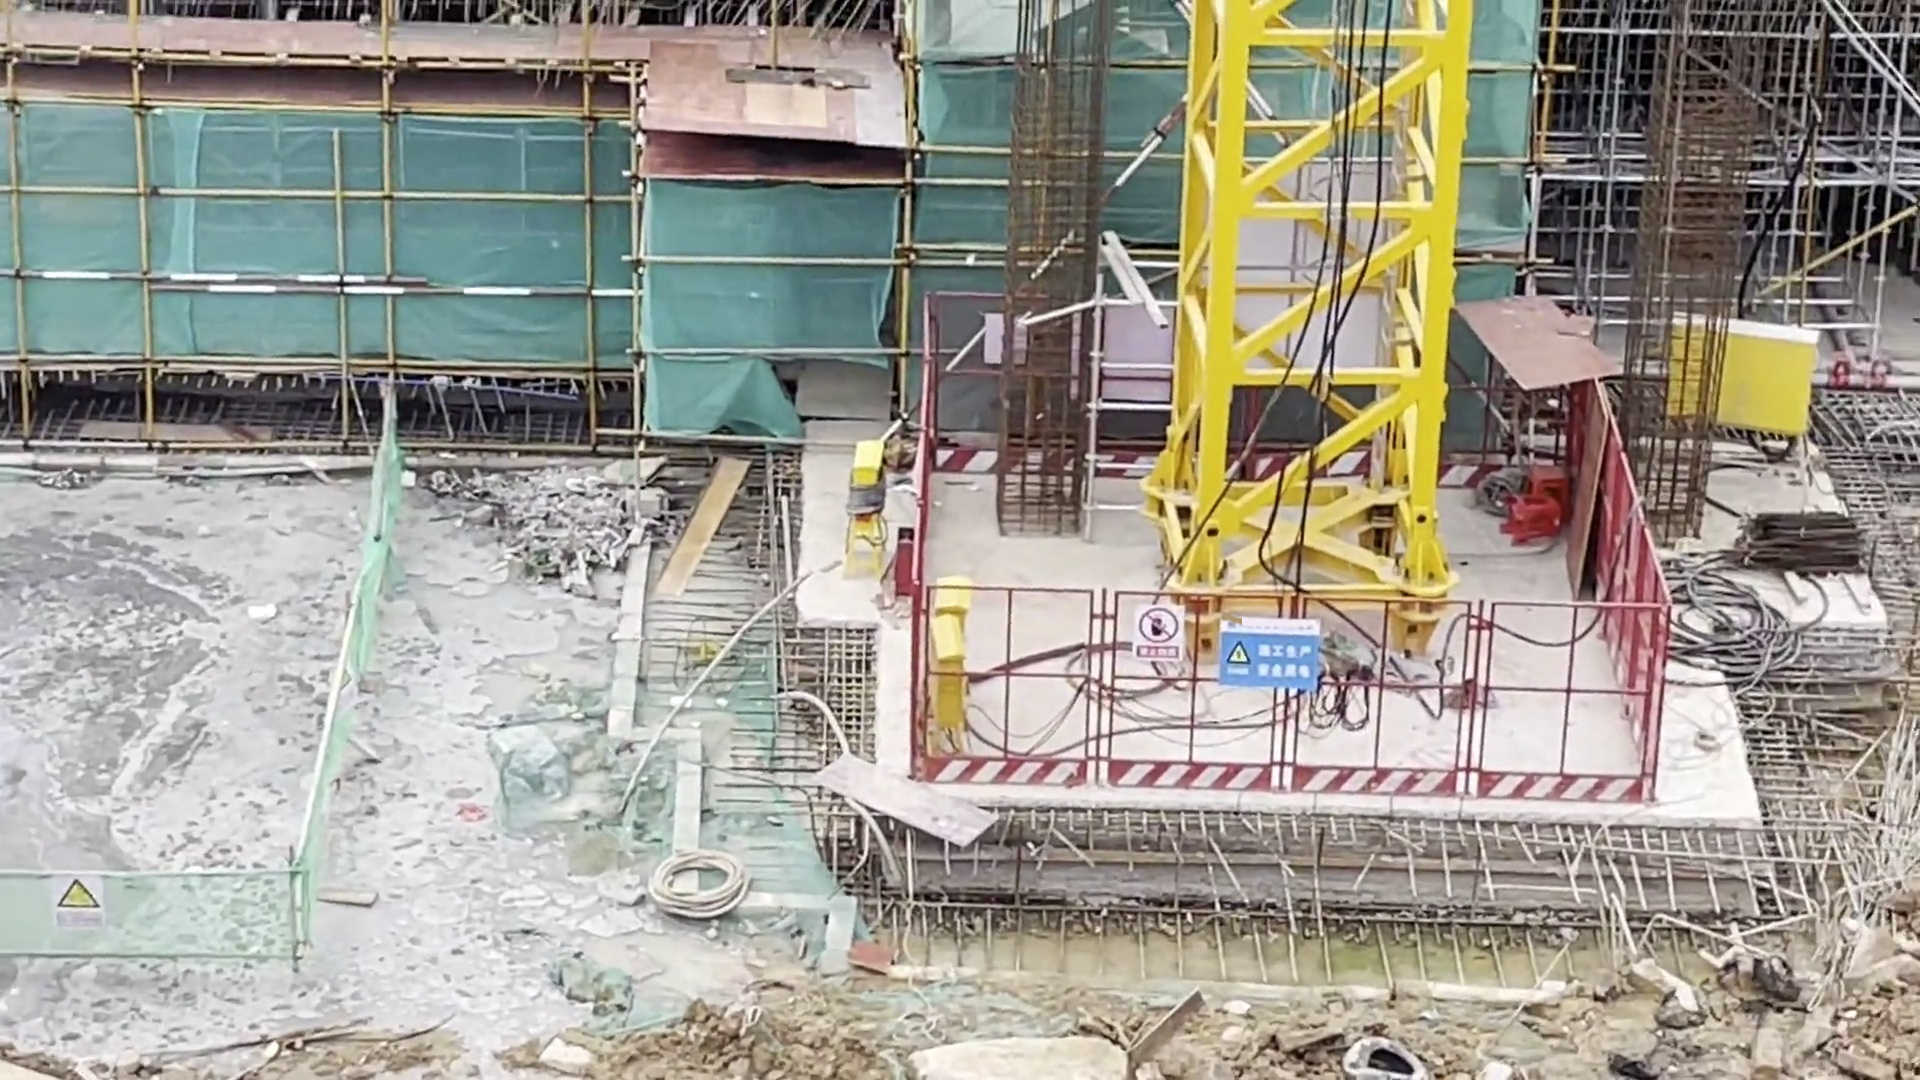ebox: (1669, 305, 1815, 456), (926, 580, 969, 740), (845, 450, 882, 563)
fence: (931, 579, 1651, 802), (1586, 439, 1664, 733)
slogan: (1217, 622, 1320, 690), (51, 874, 104, 923), (1134, 611, 1179, 662)
